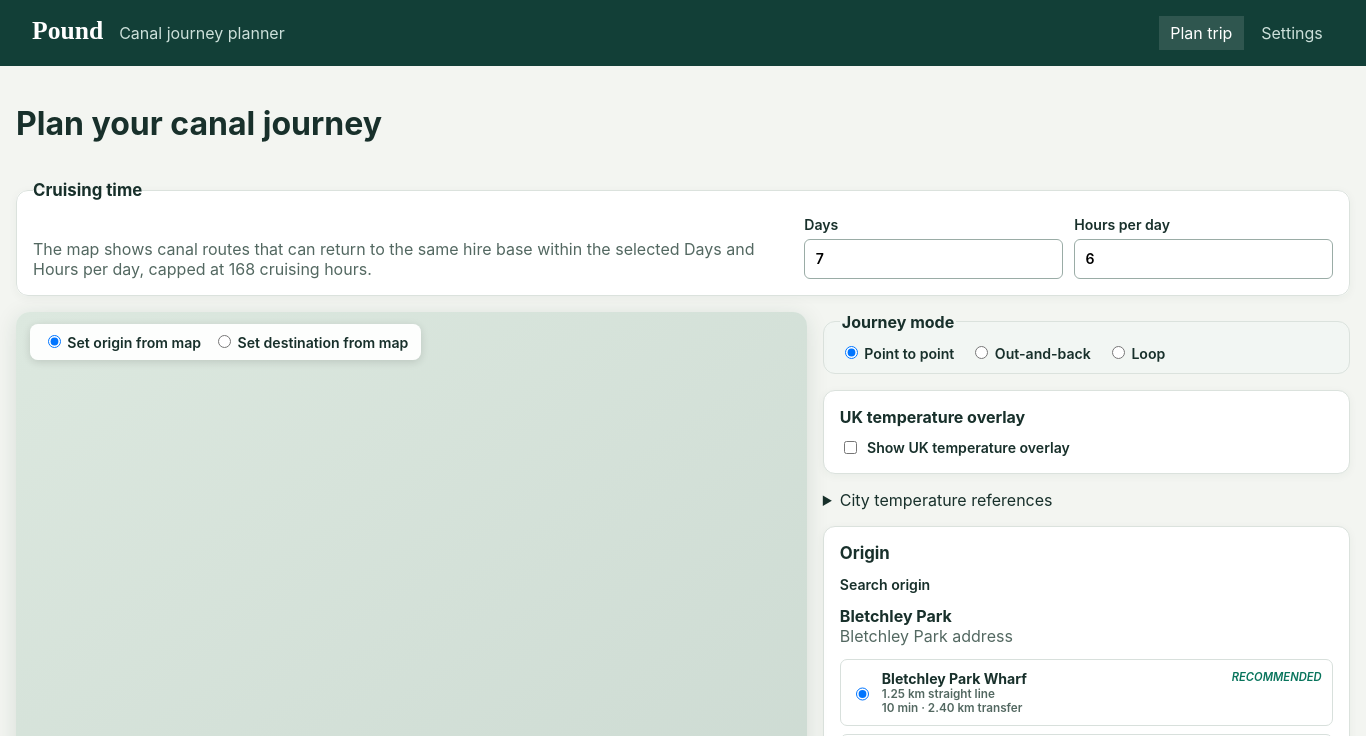
Test: trip planning interface › clears a schedule validation alert when resetting the trip
The image size is (1366, 736).
Replace the text in the number field labelled "Hours per day" with "0" at {"x": 1204, "y": 259}, box top-left (1074, 239), bottom-right (1333, 279)
(page scrolled)
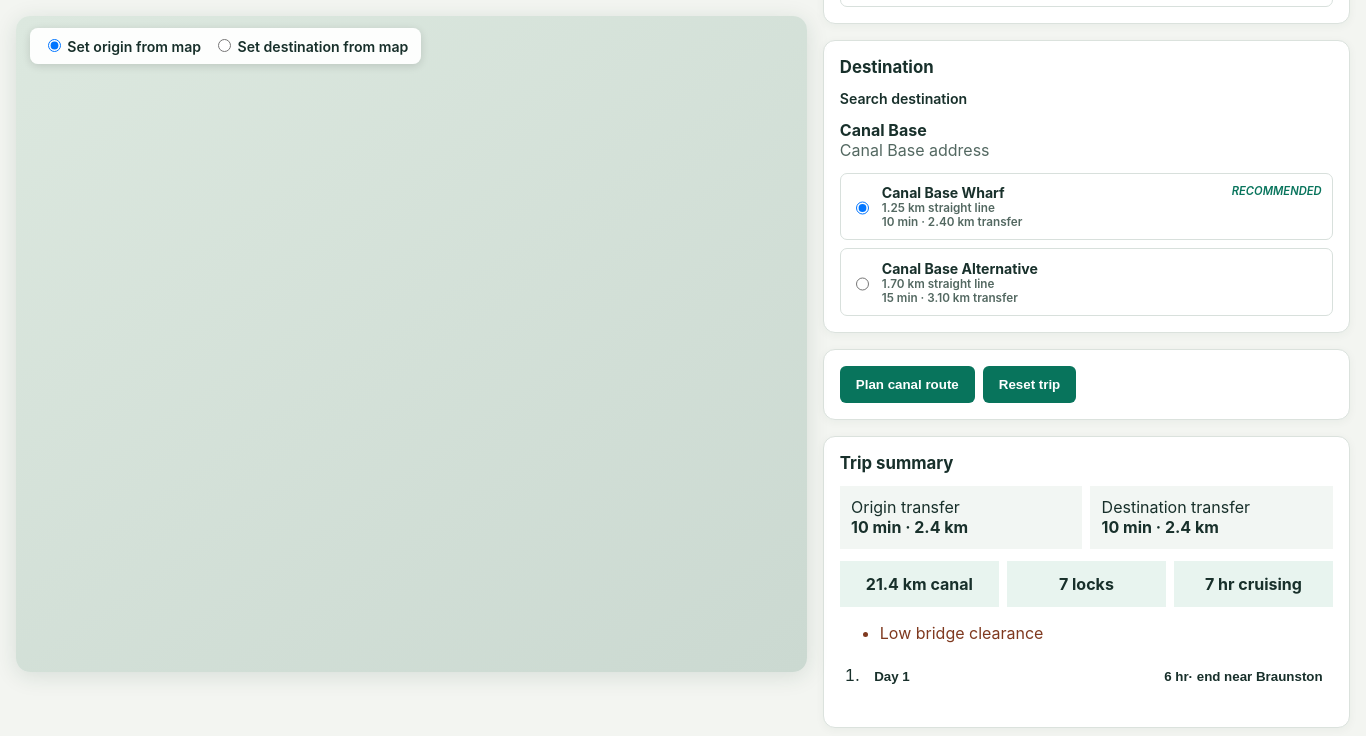
Click the button "Plan canal route" at {"x": 907, "y": 385}, box top-left (840, 366), bottom-right (975, 404)
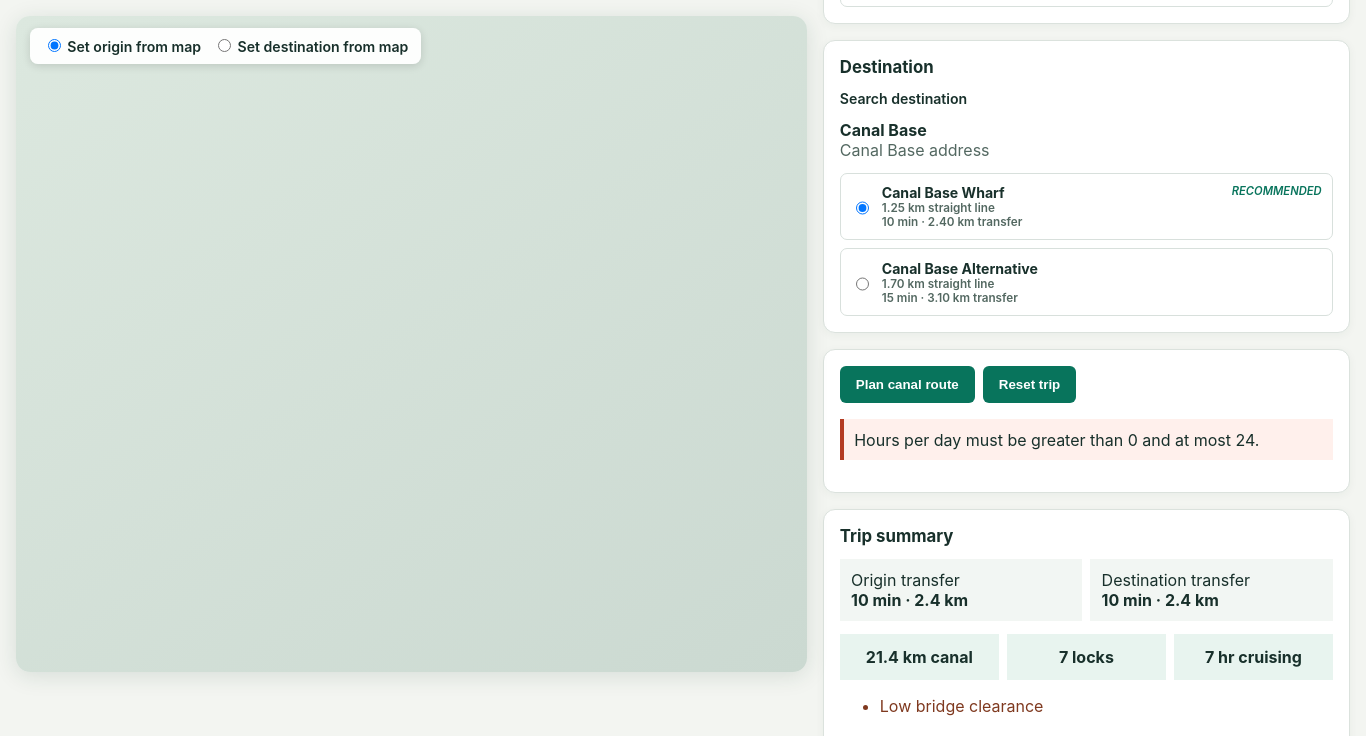
Result: the message shows "Hours per day" at top-left (854, 430), bottom-right (1259, 450)
Click the button "Reset trip" at {"x": 1030, "y": 385}, box top-left (983, 366), bottom-right (1076, 404)
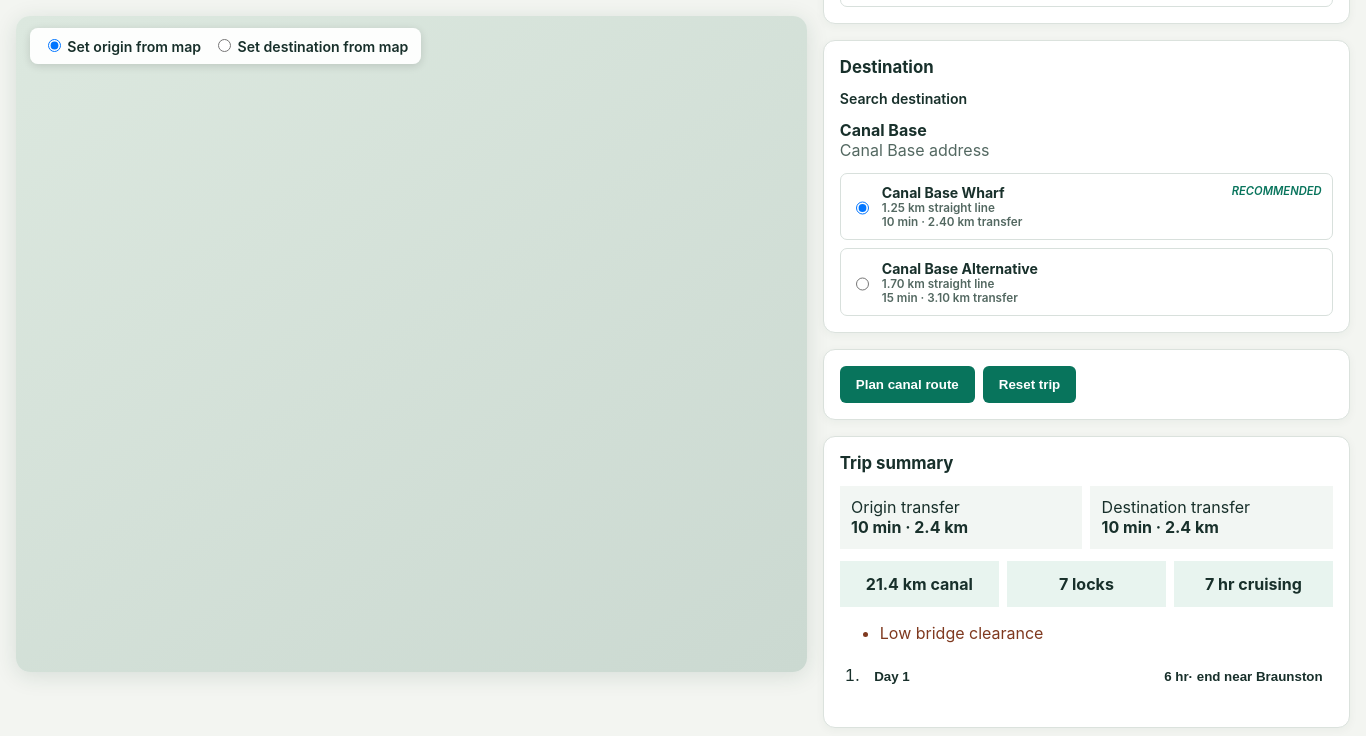
Result: the message "Hours per day must be greater than 0 and at most 24." is gone
